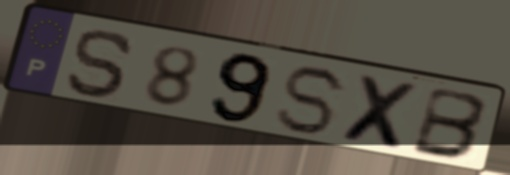8: (142, 44, 203, 110)
9: (207, 51, 278, 126)
B: (407, 84, 493, 162)
S: (273, 64, 354, 138), (63, 27, 138, 101)
X: (336, 71, 425, 155)
